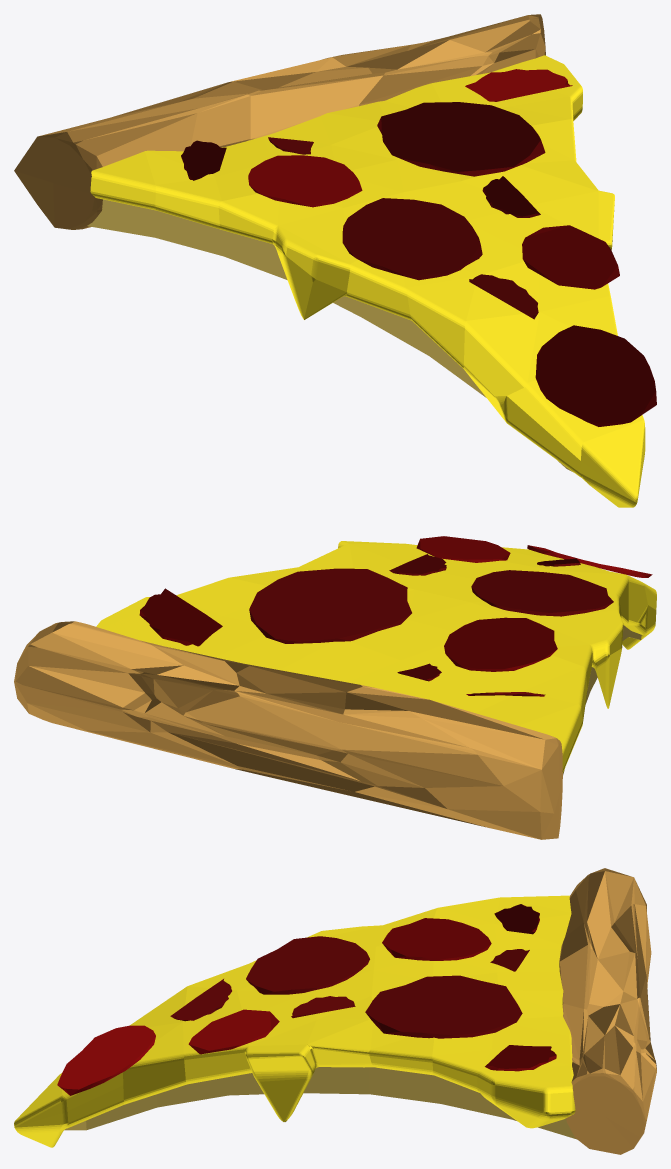
File: low_poly_pizza.glb
3 renders of one model, top to bottom at view 1: azimuth 30°, elevation 25°; view 2: azimuth 150°, elevation 25°; view 3: azimuth 270°, elevation 25°, orthographic. The views are drawn at different scales.
Parts seen in each view (by area): view 1: Object_2, Object_5, Object_7, Object_6, Object_3; view 2: Object_5, Object_2, Object_7, Object_6; view 3: Object_2, Object_5, Object_7, Object_6, Object_3.
Boxes of the visible parts, bbox=[...] form: Object_2: bbox=[90, 55, 645, 507]; Object_5: bbox=[14, 14, 545, 229]; Object_7: bbox=[181, 102, 545, 319]; Object_6: bbox=[248, 69, 656, 426]; Object_3: bbox=[87, 199, 573, 472]; Object_5: bbox=[14, 621, 562, 839]; Object_2: bbox=[96, 541, 656, 772]; Object_7: bbox=[249, 554, 613, 696]; Object_6: bbox=[139, 536, 652, 671]; Object_2: bbox=[14, 895, 575, 1147]; Object_5: bbox=[559, 868, 656, 1154]; Object_7: bbox=[170, 904, 539, 1038]; Object_6: bbox=[57, 918, 556, 1095]; Object_3: bbox=[64, 1067, 576, 1139].
Bounding box in the file's own units: 0.7443 × 0.2755 × 0.904.
